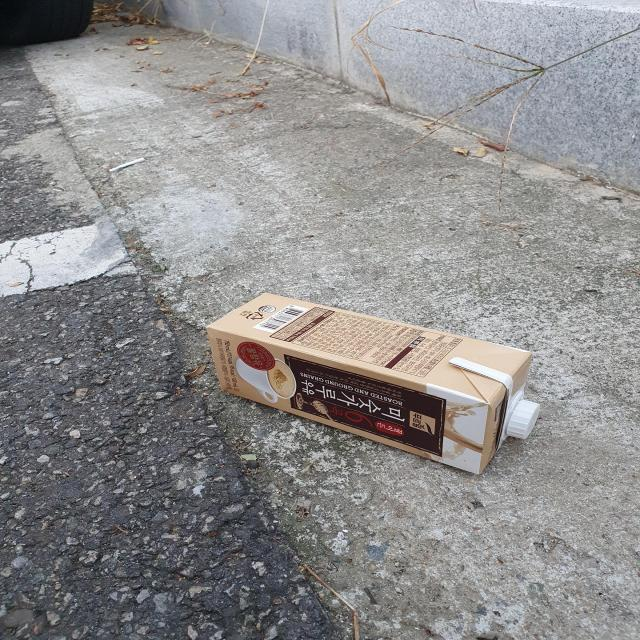paperpack: (208, 294, 539, 474)
